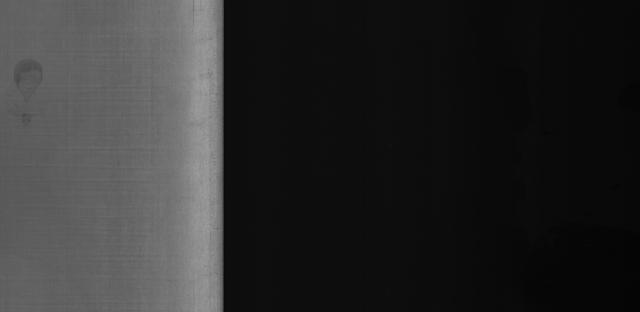oil_spot: (4, 56, 70, 132)
